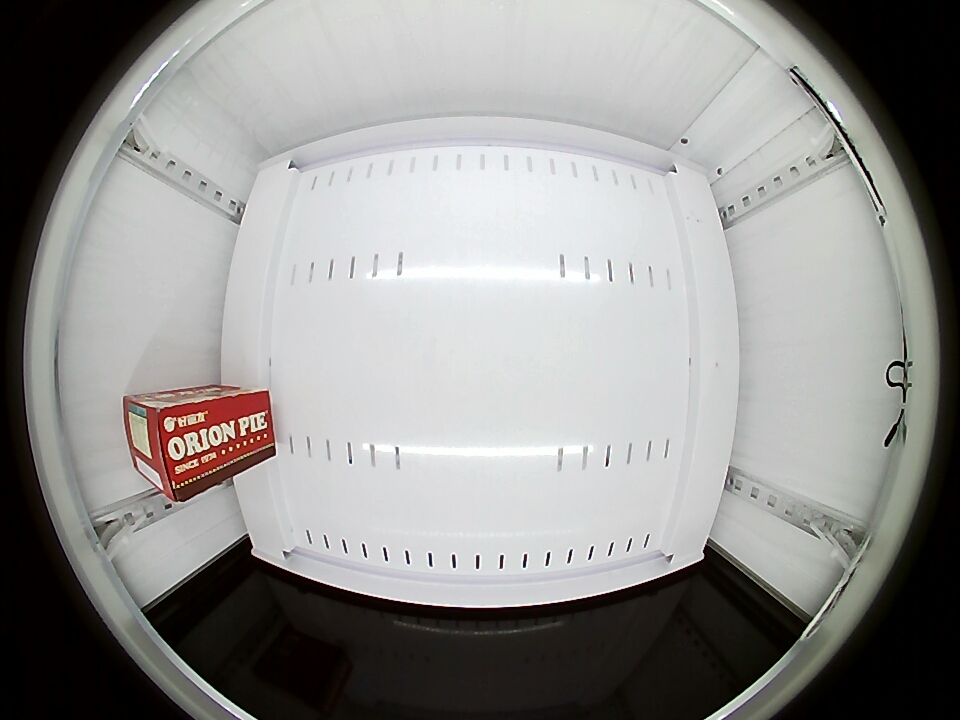haoliyou: (125, 389, 223, 503)
